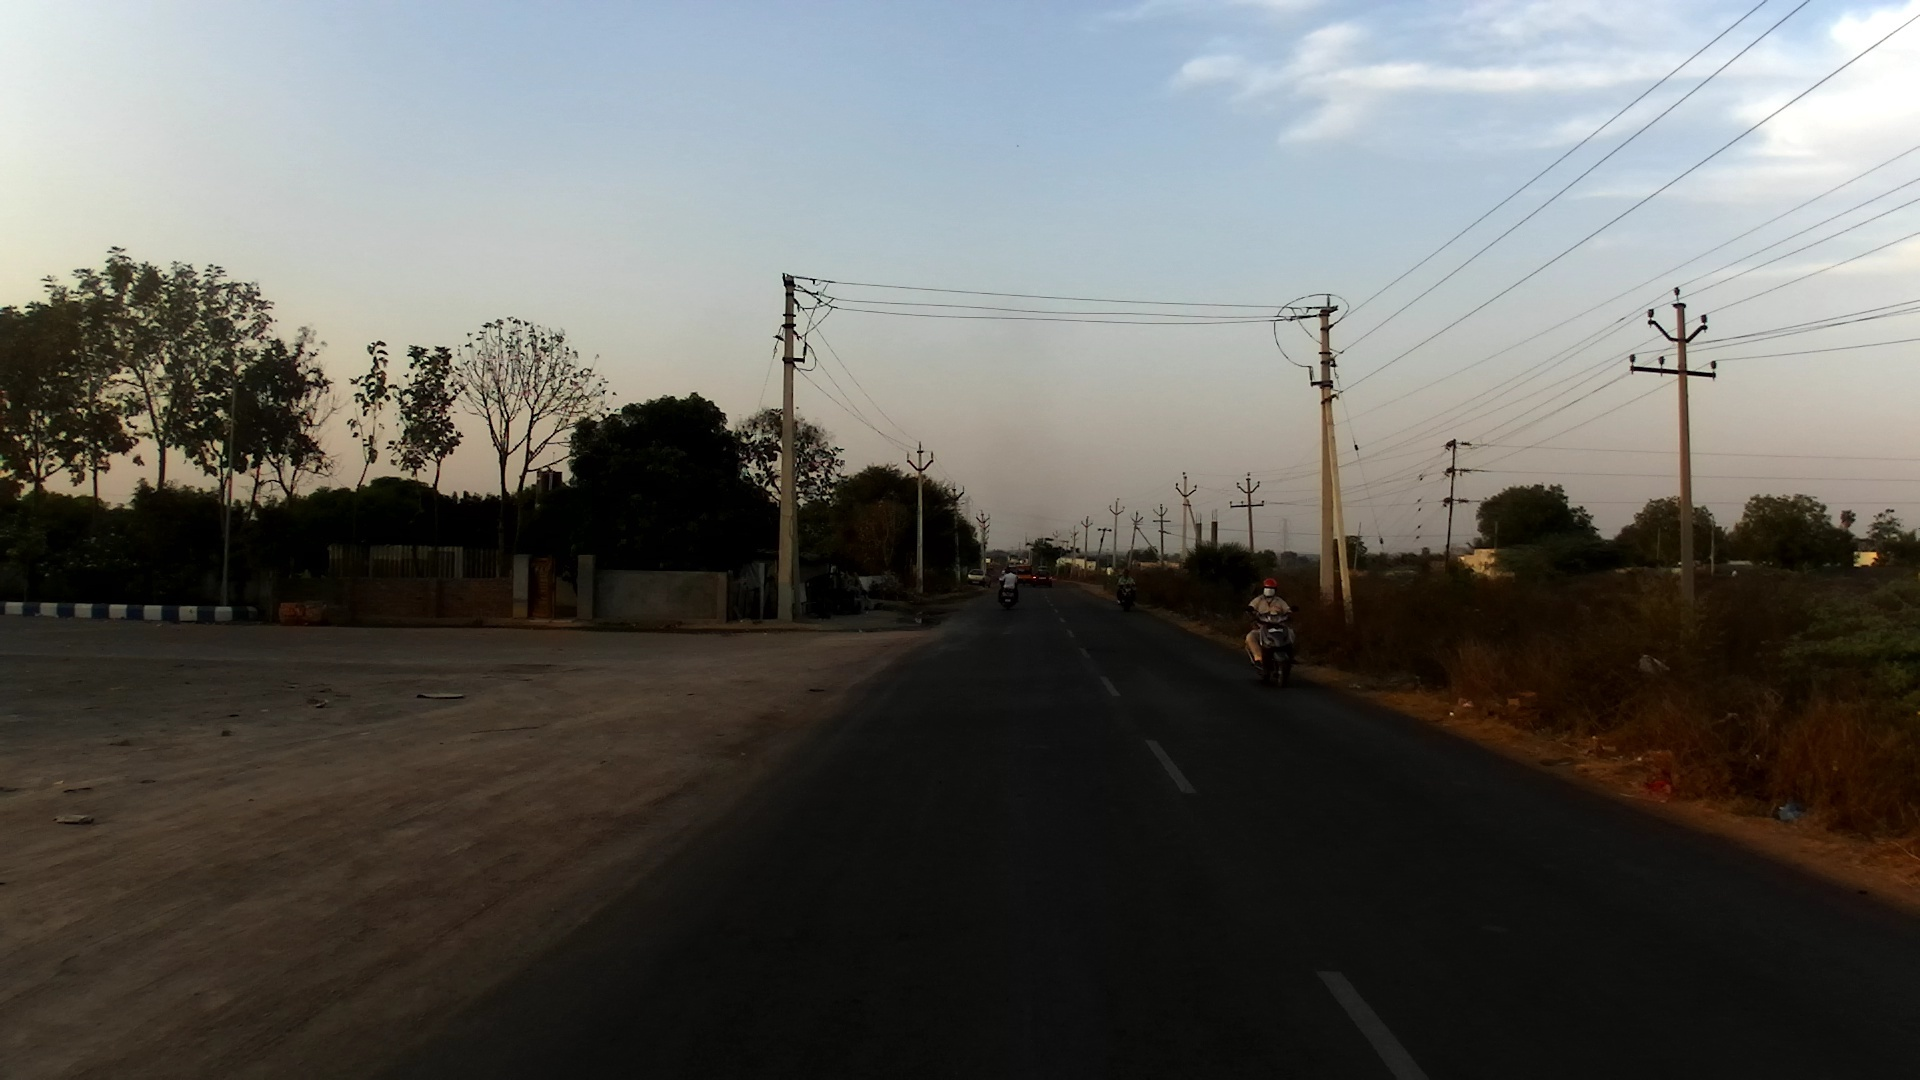autorickshaw: (1011, 558, 1034, 585)
car: (1033, 567, 1057, 591), (967, 567, 996, 587)
motorcycle: (1245, 604, 1301, 694), (1114, 582, 1140, 616), (1000, 575, 1020, 613)
person: (1107, 563, 1116, 579)
rider: (1244, 577, 1294, 674), (997, 569, 1021, 604), (1117, 570, 1139, 602)
